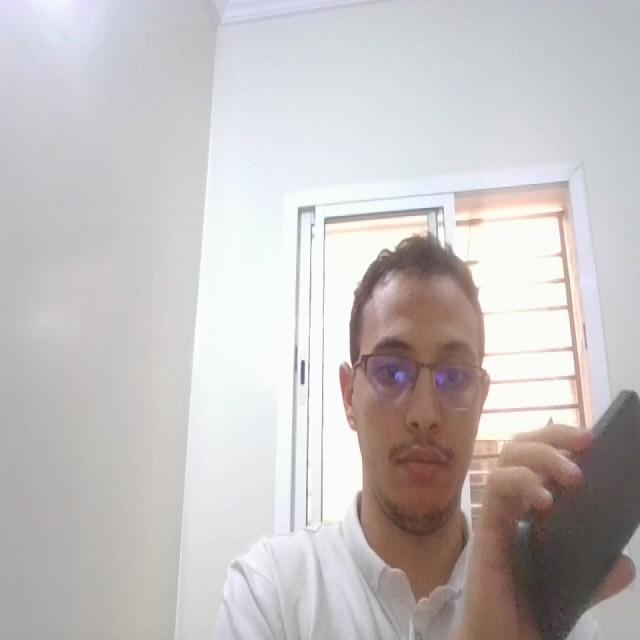phone: (505, 387, 640, 640)
